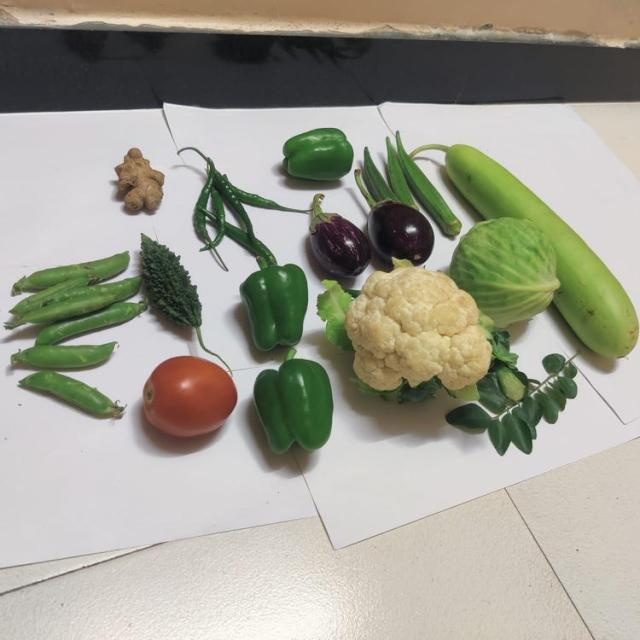Organik: (409, 142, 636, 355), (11, 257, 141, 422), (330, 268, 493, 394), (464, 360, 586, 451), (190, 151, 276, 269), (457, 220, 556, 312), (252, 354, 335, 450), (143, 358, 238, 440), (242, 256, 310, 352), (356, 133, 441, 204), (139, 234, 199, 332), (304, 193, 370, 273), (360, 195, 434, 262), (283, 124, 355, 183), (118, 147, 166, 212)
